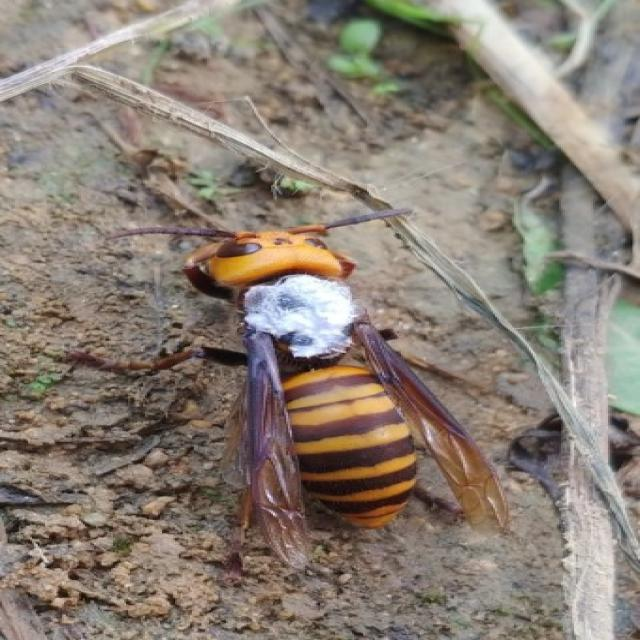Wasp: (119, 182, 514, 548)
